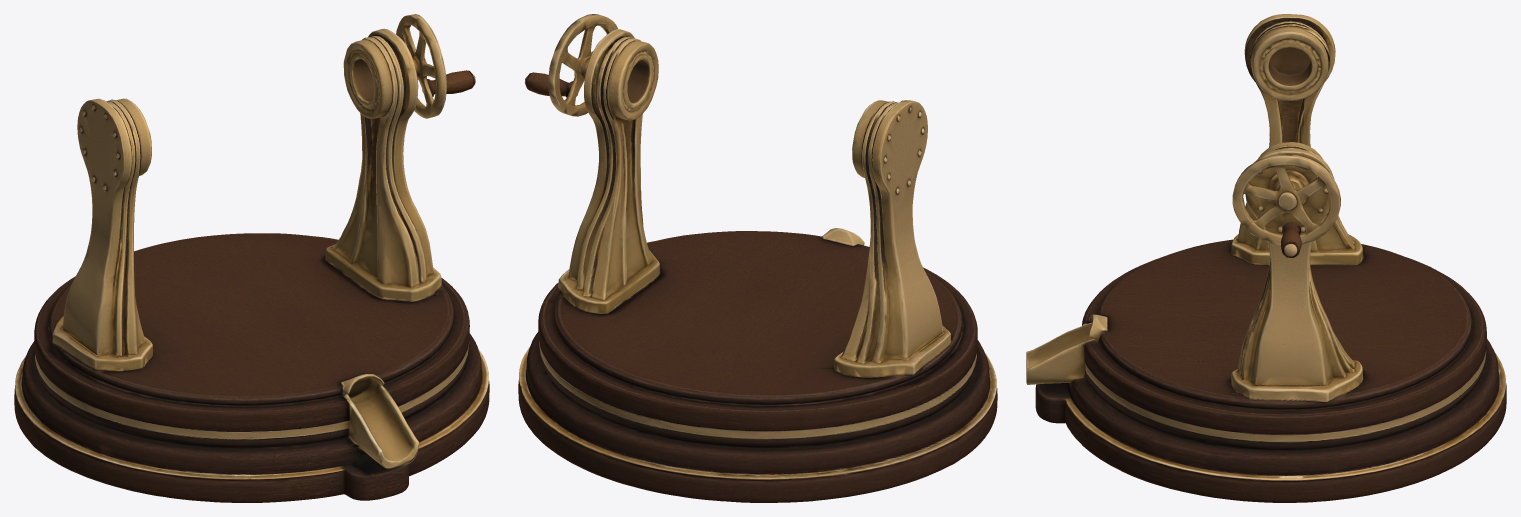
File: drum-cradle-tripo.glb
3 views of the same model, side by side, from view 1: azimuth 30°, elevation 25°; view 2: azimuth 150°, elevation 25°; view 3: azimuth 270°, elevation 25° (orthographic). The views are drawn at different scales.
Visible parts, largest first — view 1: tripo_node_f51d1e09-87a1-4f5f-87d1-89eed6859601; view 2: tripo_node_f51d1e09-87a1-4f5f-87d1-89eed6859601; view 3: tripo_node_f51d1e09-87a1-4f5f-87d1-89eed6859601.
Boxes of the visible parts, bbox=[...] form: tripo_node_f51d1e09-87a1-4f5f-87d1-89eed6859601: bbox=[14, 14, 489, 502]; tripo_node_f51d1e09-87a1-4f5f-87d1-89eed6859601: bbox=[518, 14, 997, 502]; tripo_node_f51d1e09-87a1-4f5f-87d1-89eed6859601: bbox=[1026, 14, 1506, 502].
Bounding box in the file's own units: 1 × 0.7578 × 0.9943.
Materials: 1 (1 with a texture image).
